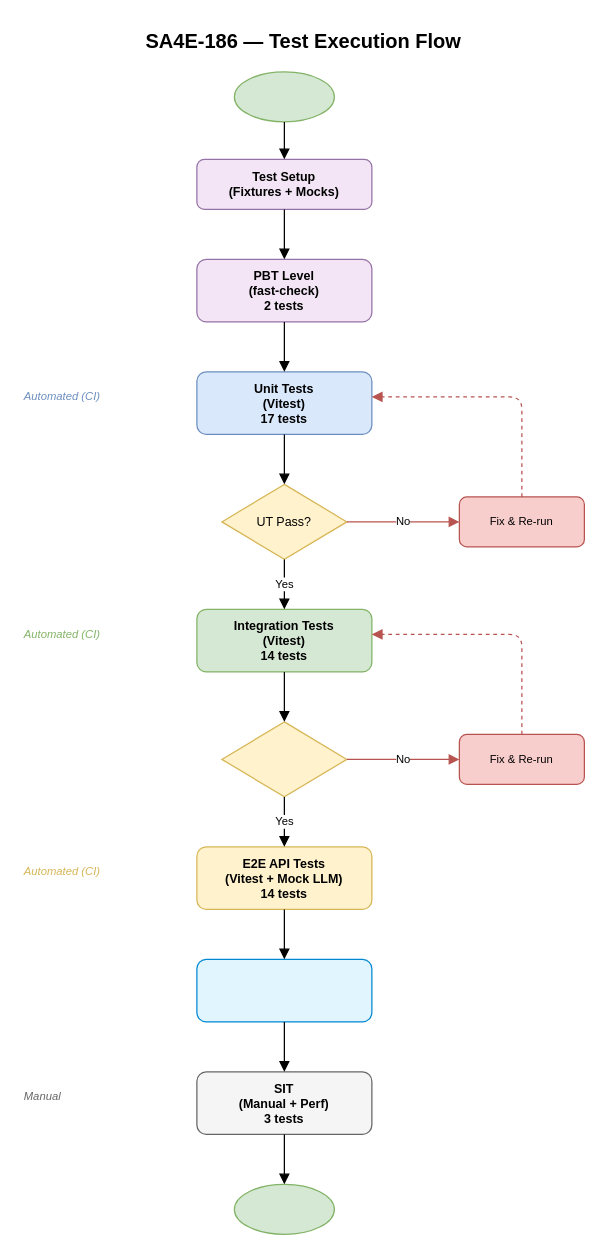
Some shapes in this 606 by 1256 pixel diagram are drawn without their labels. The shapes that lost their labels are listed below. From the top down, each one's centre as x and y in pixels, then its label:
the point at 283,96: Start
the point at 284,759: IT Pass?
the point at 284,990: E2E UI Tests (Playwright) 3 tests
the point at 283,1208: All Pass ✓
